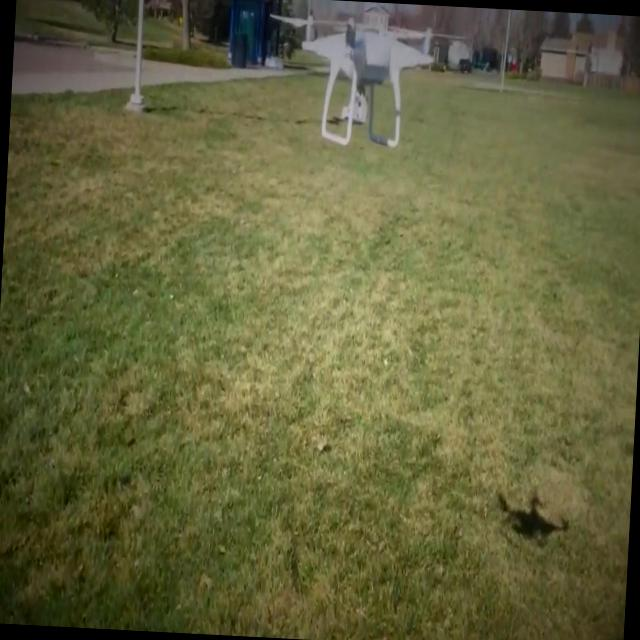drone: (274, 13, 438, 152)
